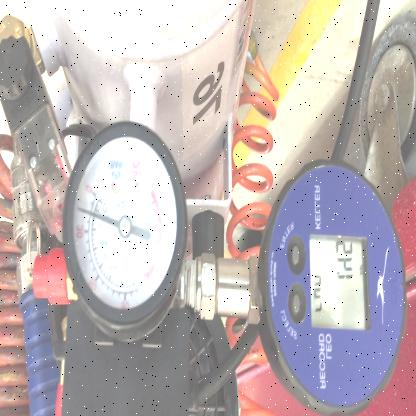needle: (78, 206, 120, 229)
